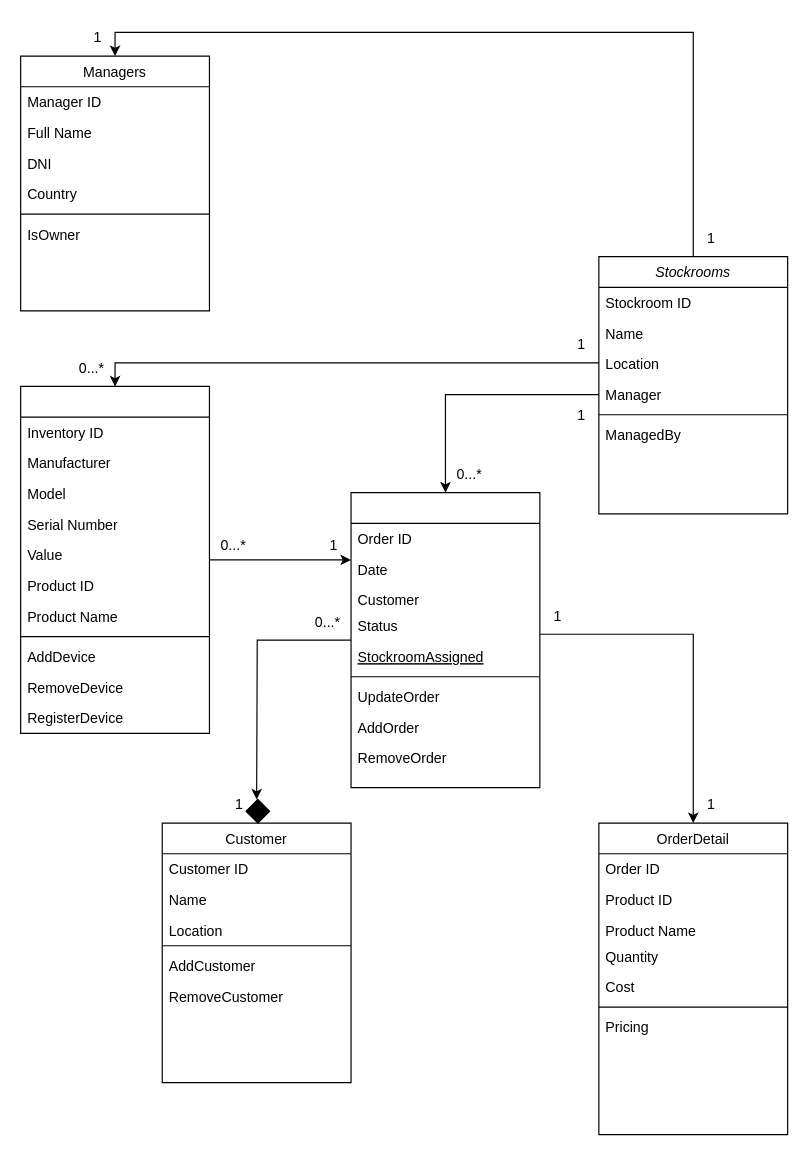
The diagram is 808 pixels wide and 1155 high, and some of its shapes have lost their labels. Each missing label, with the box of its shape:
Devices: (19, 385, 209, 733)
Orders: (350, 491, 540, 788)
